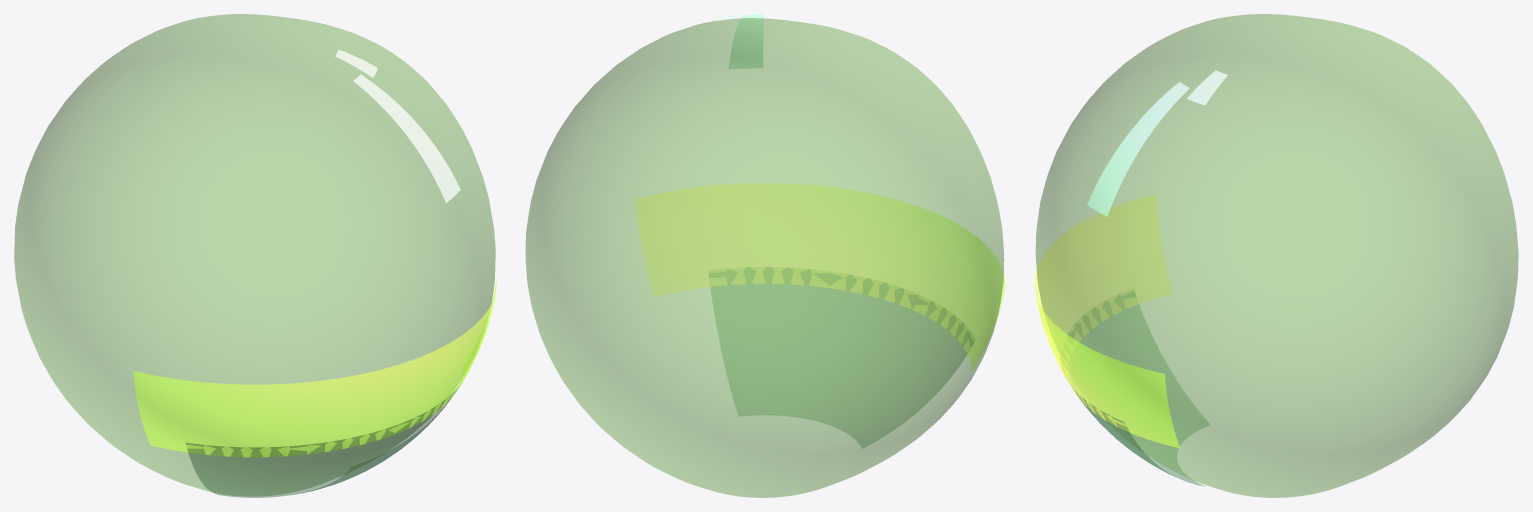
File: poison-bubble.glb
3 views of the same model, side by side, from view 1: azimuth 30°, elevation 25°; view 2: azimuth 150°, elevation 25°; view 3: azimuth 270°, elevation 25° (orthographic).
Visible parts, largest first — view 1: Thin translucent bubble skin, Lime caustic crescent, Deep emerald refraction, Long mintbox highlight; view 2: Thin translucent bubble skin, Lime caustic crescent, Deep emerald refraction, Long mintbox highlight; view 3: Thin translucent bubble skin, Lime caustic crescent, Deep emerald refraction, Long mintbox highlight, Small liquid glint.
Part boxes in pixels (x1,y1,x2,y2): Thin translucent bubble skin: [14, 14, 495, 496]; Lime caustic crescent: [133, 278, 496, 457]; Deep emerald refraction: [186, 386, 459, 497]; Long mintbox highlight: [353, 74, 460, 202]; Thin translucent bubble skin: [525, 18, 1004, 497]; Lime caustic crescent: [636, 183, 1005, 370]; Deep emerald refraction: [709, 267, 973, 448]; Long mintbox highlight: [729, 14, 763, 69]; Thin translucent bubble skin: [1035, 14, 1518, 497]; Lime caustic crescent: [1034, 194, 1179, 447]; Deep emerald refraction: [1060, 291, 1209, 486]; Long mintbox highlight: [1087, 82, 1189, 216]; Small liquid glint: [1187, 70, 1227, 105].
Size of the model in its own units: 1.64 by 1.64 by 1.64.
